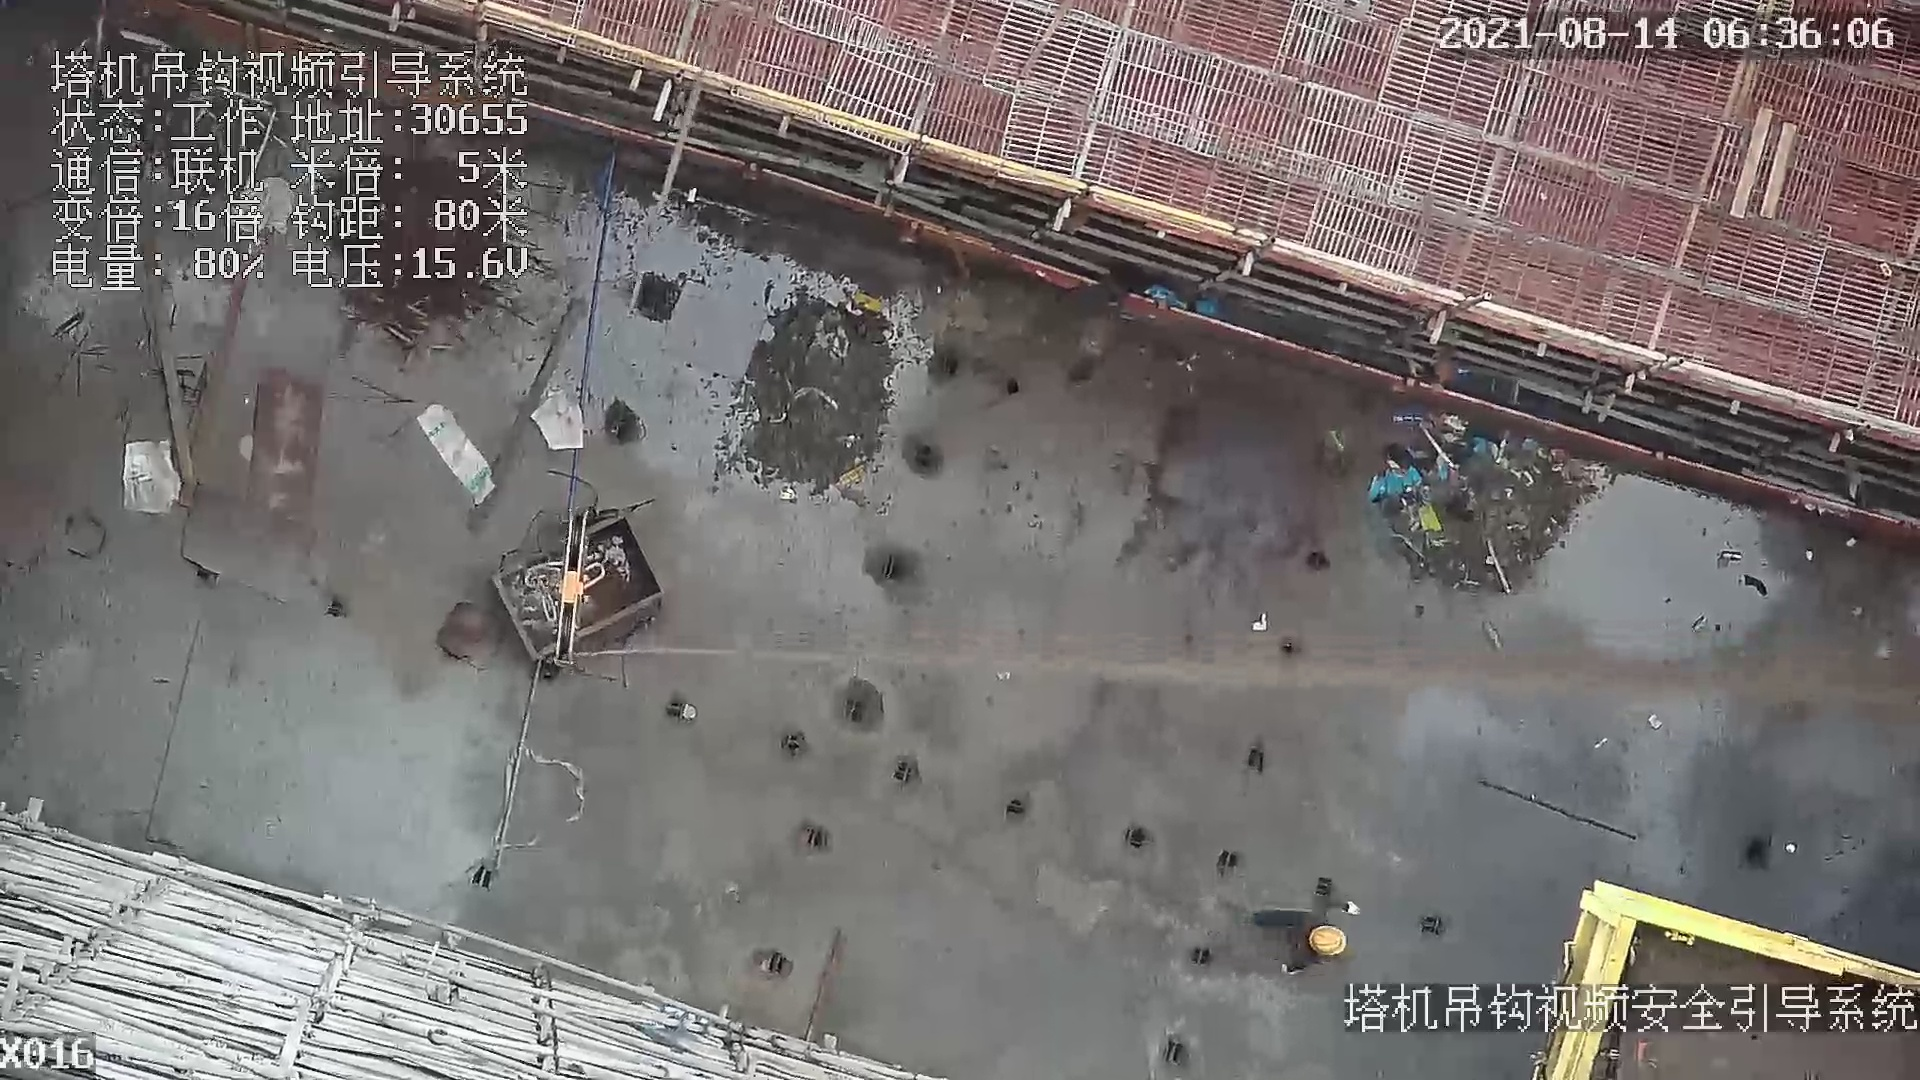helmet: (1308, 923, 1350, 967)
hook: (551, 508, 601, 667)
hopper: (488, 515, 676, 677)
person: (1250, 878, 1351, 985)
